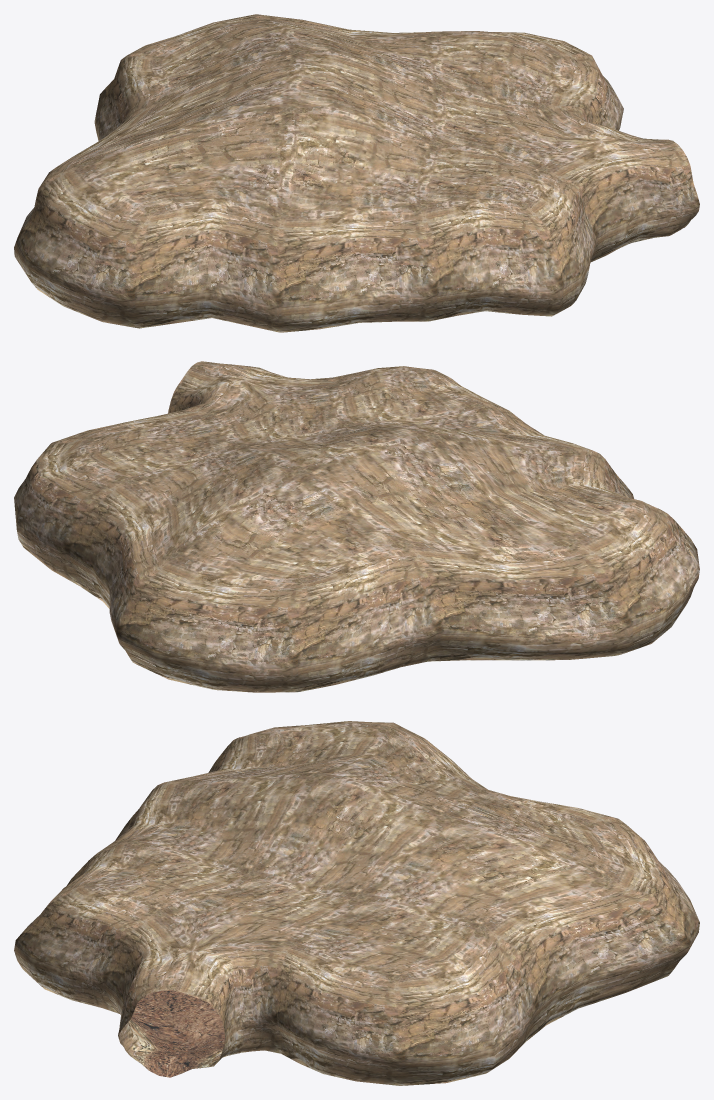
Rendered from thm_tato_cave_s01_r41_roomaab_mesh_r41.fbx.
3 renders of one model, top to bottom at view 1: azimuth 30°, elevation 25°; view 2: azimuth 150°, elevation 25°; view 3: azimuth 270°, elevation 25°, orthographic. The views are drawn at different scales.
Parts seen in each view (by area): view 1: mesh_node; view 2: mesh_node; view 3: mesh_node.
Boxes of the visible parts, left/top/right/bottom form: mesh_node: left=14, top=14, right=699, bottom=332; mesh_node: left=14, top=361, right=699, bottom=692; mesh_node: left=14, top=721, right=699, bottom=1085.
Bounding box in the file's own units: 74.27 × 18.88 × 70.37.
